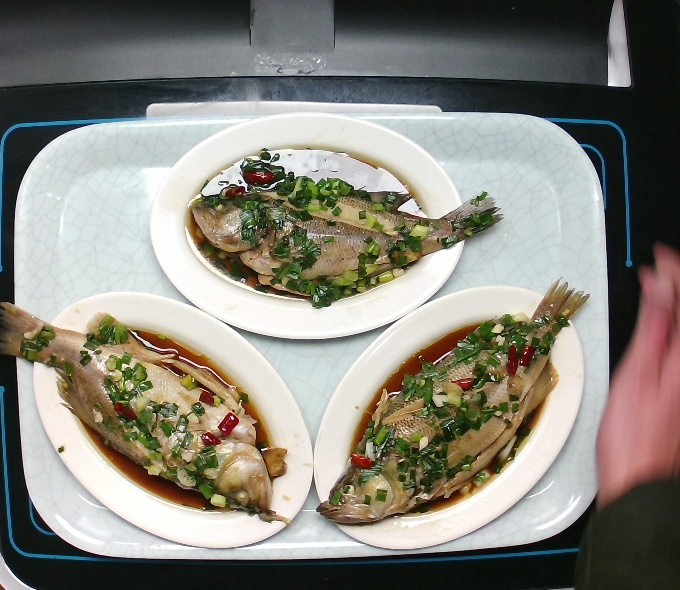wcq-LuYu: (311, 274, 595, 537), (1, 291, 298, 532), (184, 174, 507, 300)
